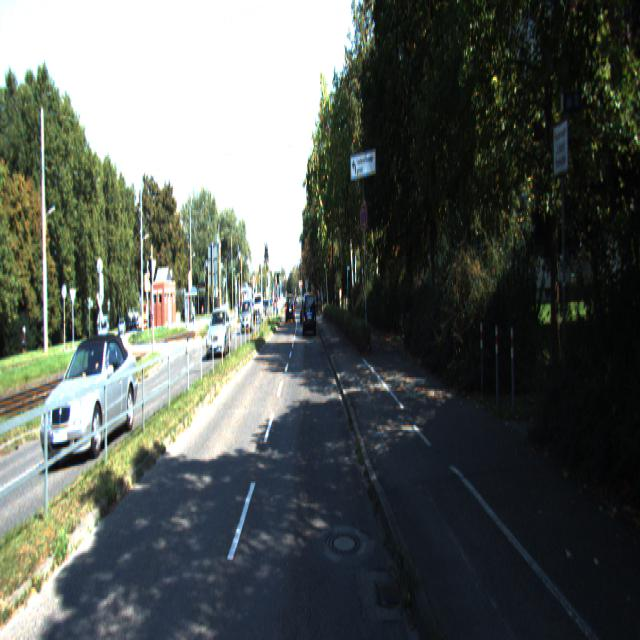Car: (41, 332, 140, 475), (205, 307, 232, 360), (302, 294, 316, 339)
